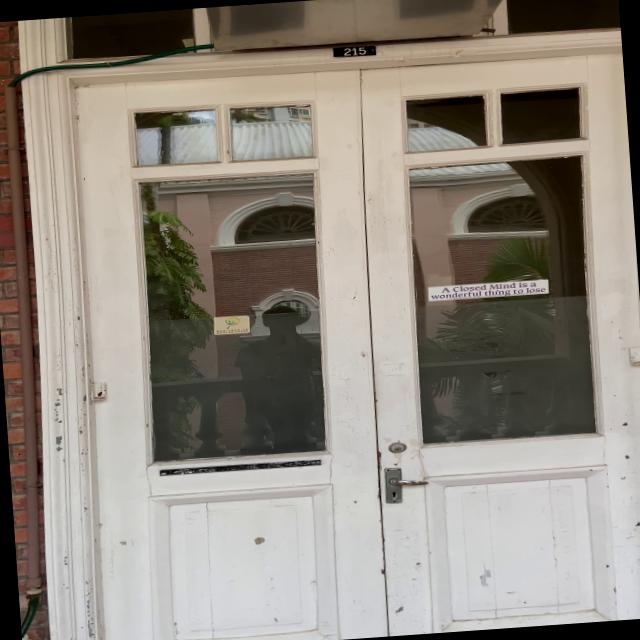room215: (330, 42, 381, 59)
